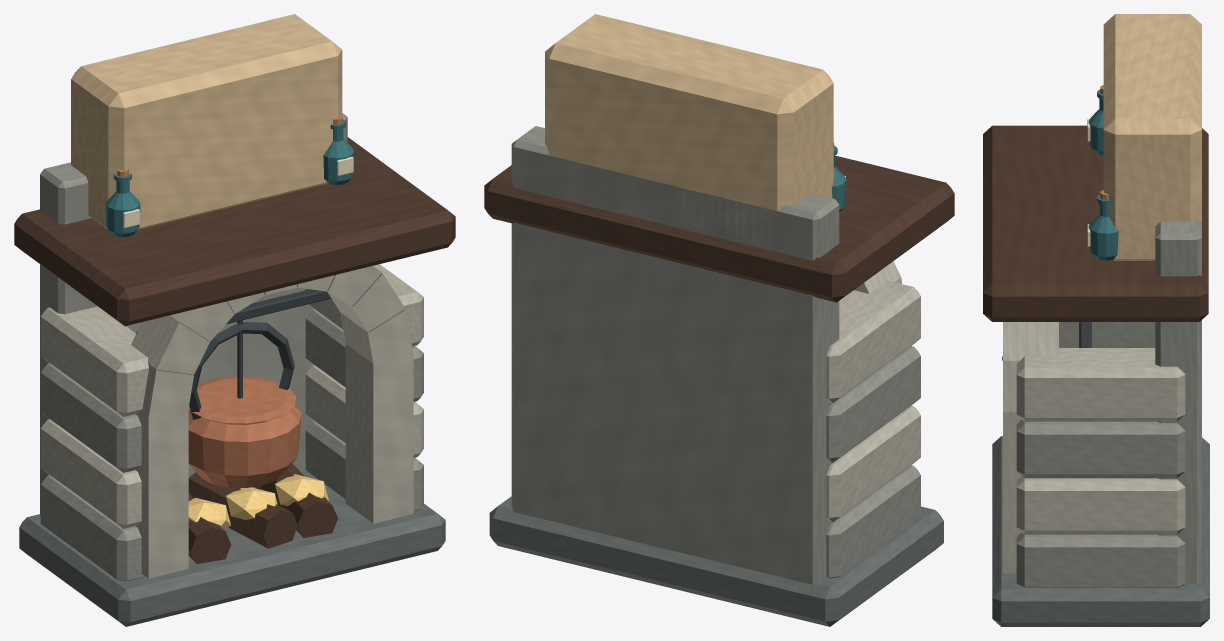
The model's file is hearth_cookfire.glb.
The picture shows the model from 3 angles, left to right: view 1: azimuth 30°, elevation 25°; view 2: azimuth 150°, elevation 25°; view 3: azimuth 270°, elevation 25°; orthographic projection. The views are drawn at different scales.
Visible parts, largest first — view 1: hearth_cookfire; view 2: hearth_cookfire; view 3: hearth_cookfire.
Part boxes in pixels (x1,y1,x2,y2): hearth_cookfire: (14, 14, 455, 626); hearth_cookfire: (484, 14, 954, 626); hearth_cookfire: (983, 14, 1209, 626).
Bounding box in the file's own units: 1.52 × 2.06 × 0.875.
1 material, 1 textured.
